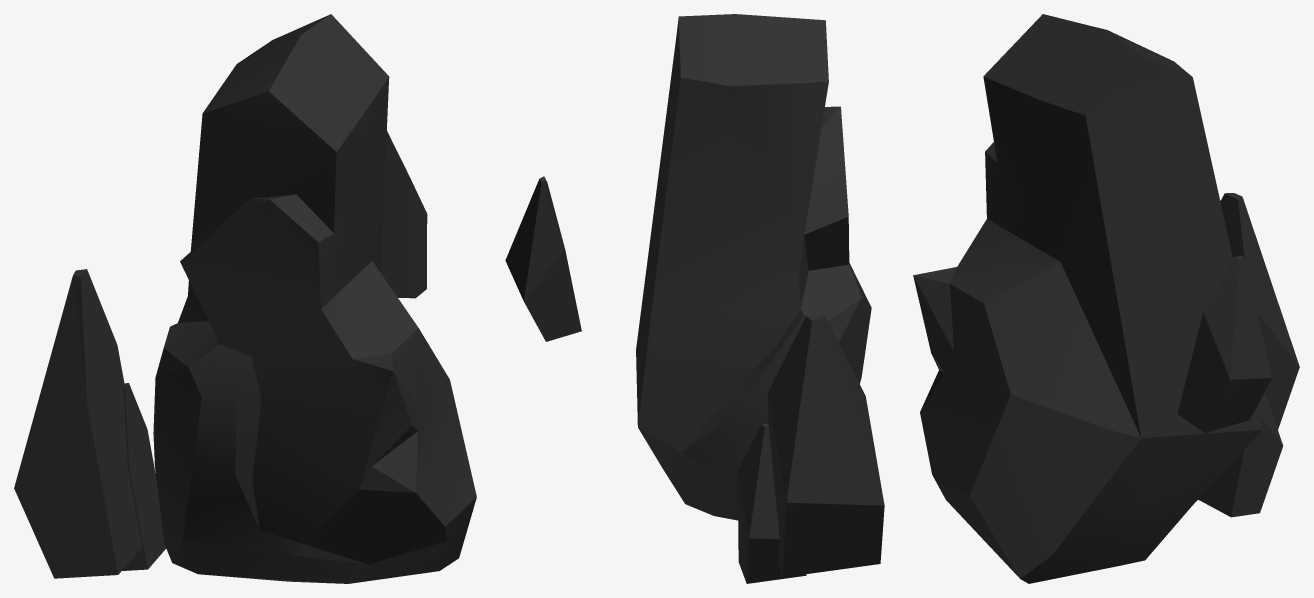
The model's file is SM_Obsidian.fbx.
3 renders of one model, left to right at view 1: azimuth 30°, elevation 25°; view 2: azimuth 150°, elevation 25°; view 3: azimuth 270°, elevation 25°, orthographic. The views are drawn at different scales.
Visible parts, largest first — view 1: Group48694; view 2: Group48694; view 3: Group48694.
Boxes of the visible parts, x1,y1,x2,y2 form: Group48694: (14, 14, 476, 583); Group48694: (505, 14, 884, 583); Group48694: (913, 14, 1299, 583).
Size of the model in its own units: 30.35 by 38.26 by 25.48.
